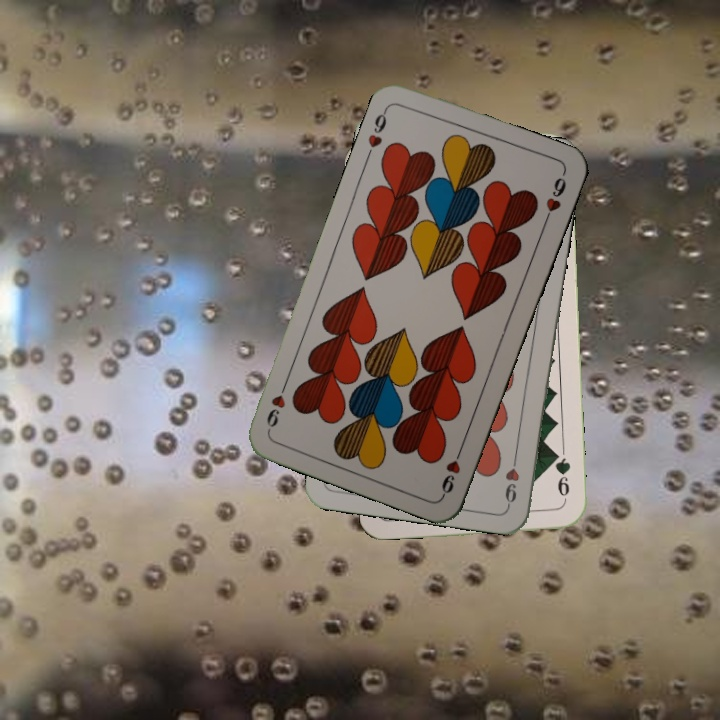G9: (549, 447, 573, 506)
H9: (437, 441, 466, 498), (362, 103, 391, 160), (501, 450, 522, 509)
